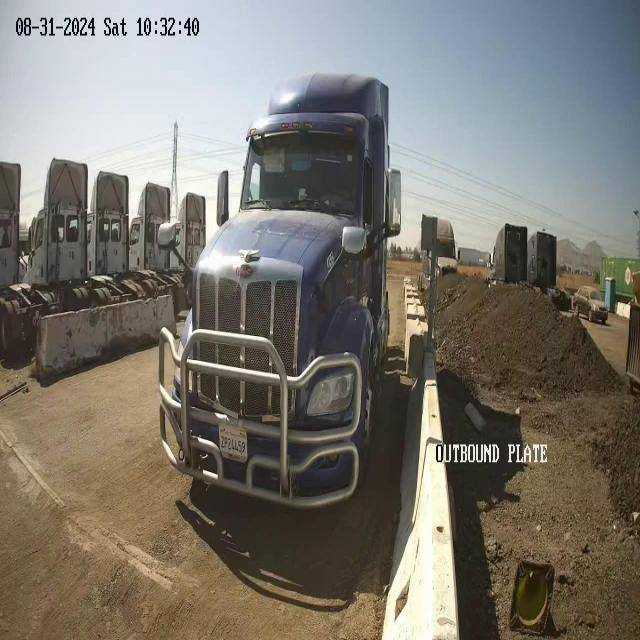TRUCK_OUT: (158, 70, 402, 512)
